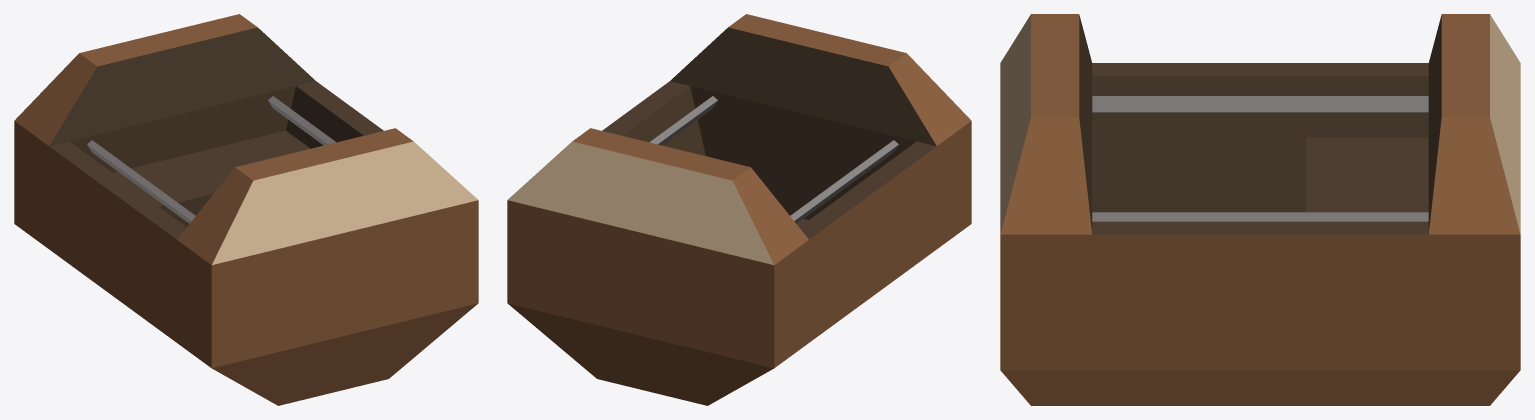
The model's file is amusement-park-water-ride-cart.glb.
3 renders of one model, left to right at view 1: azimuth 30°, elevation 25°; view 2: azimuth 150°, elevation 25°; view 3: azimuth 270°, elevation 25°, orthographic. The views are drawn at different scales.
Parts seen in each view (by area): view 1: water-ride-cart; view 2: water-ride-cart; view 3: water-ride-cart.
Boxes of the visible parts, <box> form: water-ride-cart: <box>14,14,478,405</box>; water-ride-cart: <box>507,14,971,405</box>; water-ride-cart: <box>1000,14,1520,405</box>.
Bounding box in the file's own units: 1.33 × 1.1 × 1.7.
